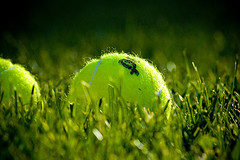tennis ball: (65, 52, 174, 112), (1, 55, 41, 111)
